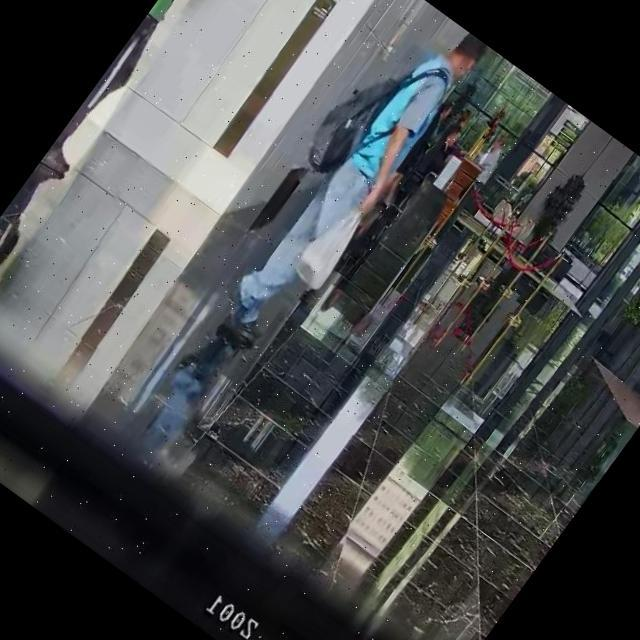person: (218, 8, 493, 348), (46, 0, 271, 169), (420, 130, 514, 252), (372, 98, 460, 209), (407, 120, 473, 196), (441, 106, 473, 143)
